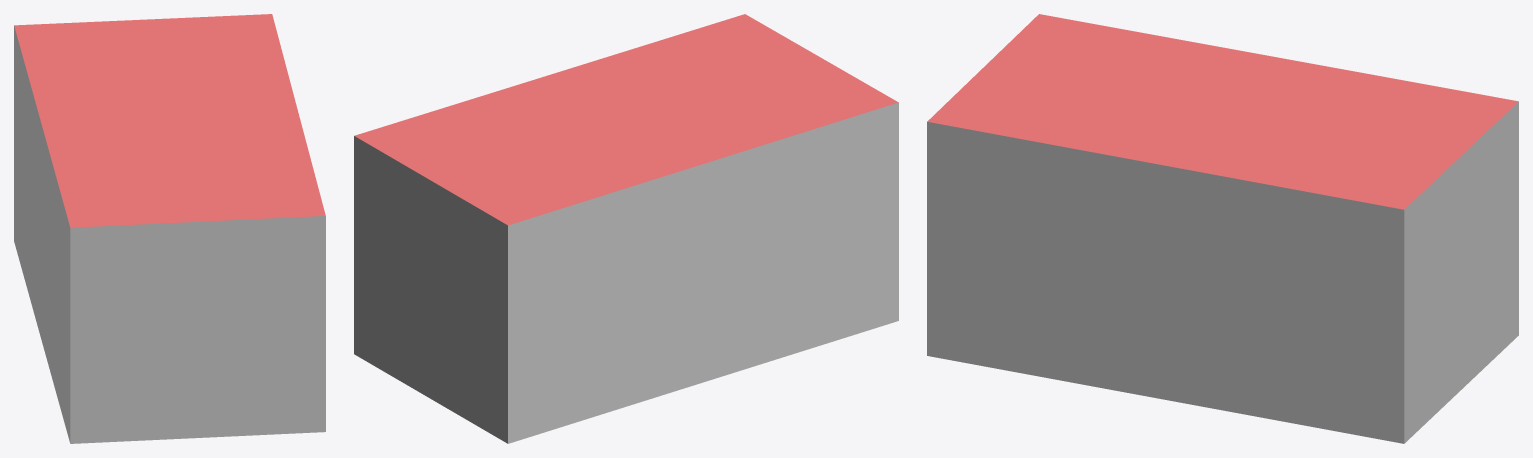
Rendered from DEBY_LOD2_4908127.gltf.
3 views of the same model, side by side, from view 1: azimuth 30°, elevation 25°; view 2: azimuth 150°, elevation 25°; view 3: azimuth 270°, elevation 25° (orthographic). The views are drawn at different scales.
Parts seen in each view (by area): view 1: Z_UP; view 2: Z_UP; view 3: Z_UP.
Part boxes in pixels (x1,y1,x2,y2): Z_UP: [14, 14, 325, 443]; Z_UP: [354, 14, 898, 443]; Z_UP: [927, 14, 1518, 443].
Bounding box in the file's own units: 5.38 × 3 × 6.87.
